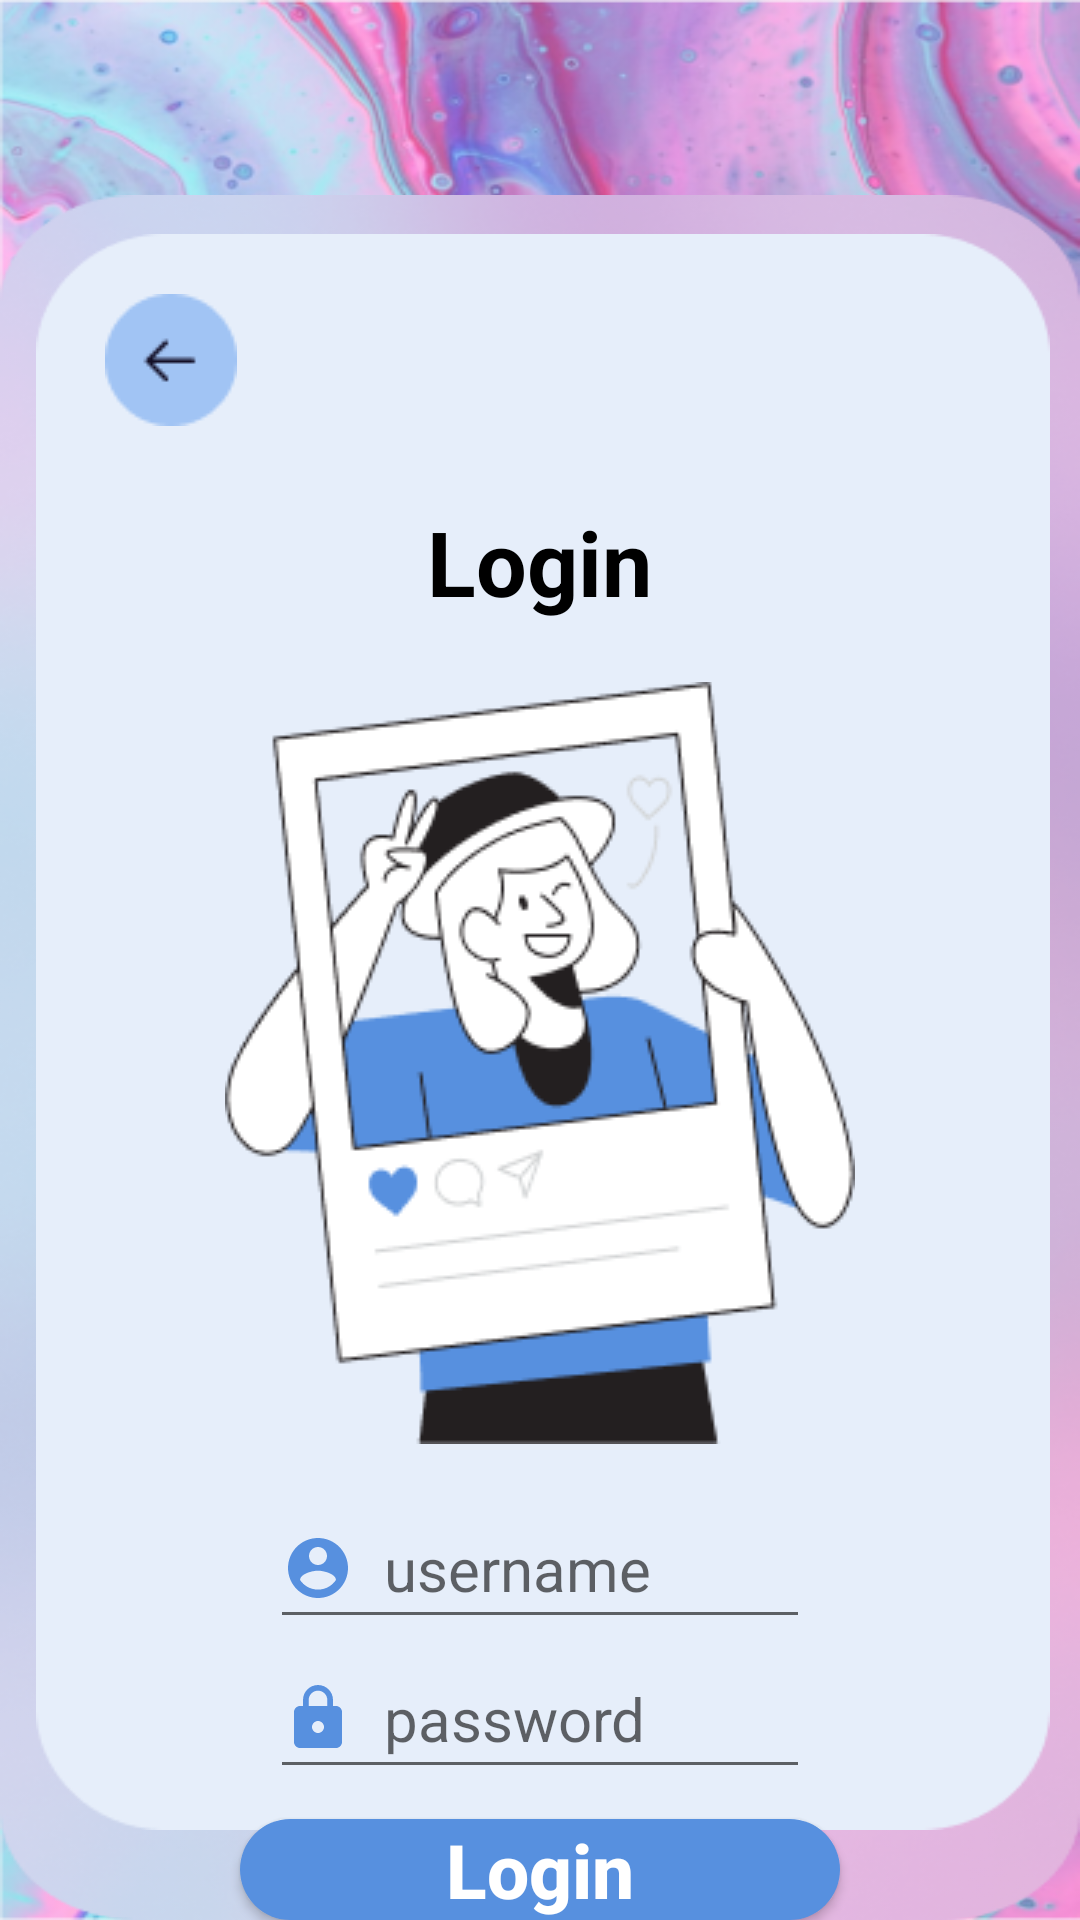

Named icons in this screenshot (1080 x 1920) and their centers, point (x, y):
left: point (171, 360)
